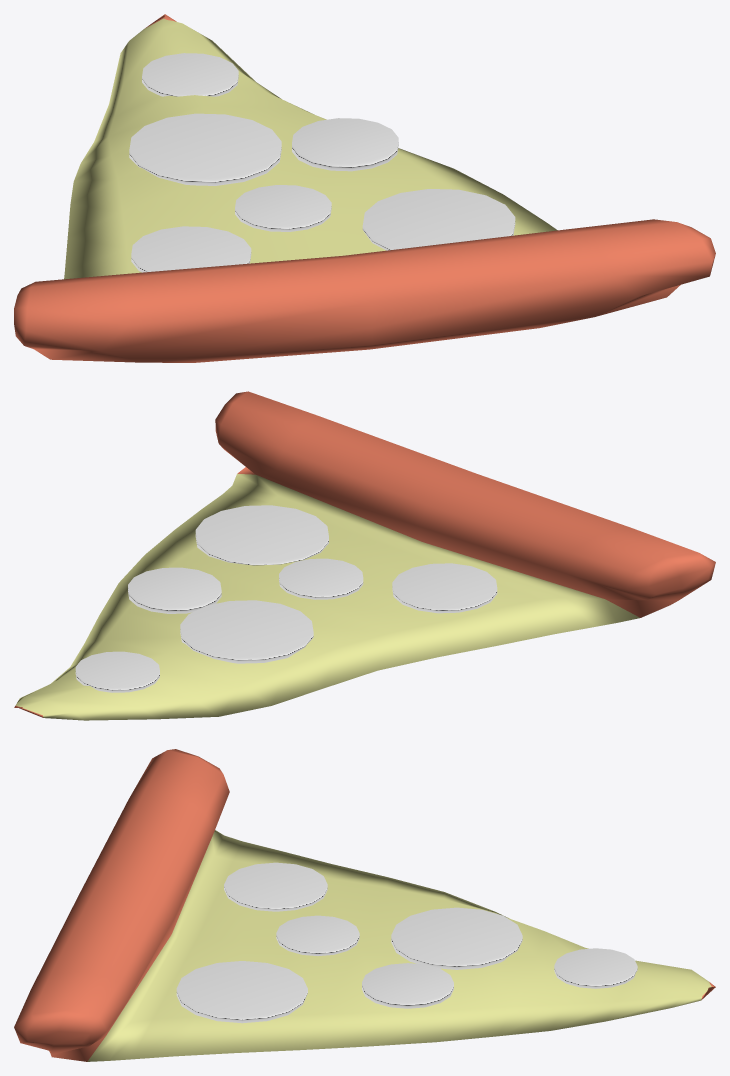
File: pizza.fbx
3 renders of one model, top to bottom at view 1: azimuth 30°, elevation 25°; view 2: azimuth 150°, elevation 25°; view 3: azimuth 270°, elevation 25°, orthographic. The views are drawn at different scales.
Parts seen in each view (by area): view 1: Plane.004, Cylinder.006, Cylinder.001, Cylinder.003, Cylinder.002, Cylinder.004, Cylinder.005; view 2: Plane.004, Cylinder.006, Cylinder.001, Cylinder.002, Cylinder.003, Cylinder.004, Cylinder.005; view 3: Plane.004, Cylinder.001, Cylinder.006, Cylinder.002, Cylinder.003, Cylinder.004, Cylinder.005.
Part boxes in pixels (x1,y1,x2,y2): Plane.004: [14, 14, 715, 362]; Cylinder.006: [129, 113, 281, 185]; Cylinder.001: [362, 189, 515, 250]; Cylinder.003: [292, 118, 398, 171]; Cylinder.002: [131, 226, 251, 272]; Cylinder.004: [235, 185, 331, 231]; Cylinder.005: [142, 53, 238, 96]; Plane.004: [14, 391, 715, 720]; Cylinder.006: [180, 600, 313, 663]; Cylinder.001: [195, 505, 328, 565]; Cylinder.002: [392, 563, 497, 613]; Cylinder.003: [128, 567, 221, 613]; Cylinder.004: [279, 558, 363, 599]; Cylinder.005: [75, 651, 159, 692]; Plane.004: [14, 749, 715, 1061]; Cylinder.001: [176, 961, 307, 1023]; Cylinder.006: [391, 907, 522, 969]; Cylinder.002: [224, 862, 327, 911]; Cylinder.003: [362, 963, 453, 1008]; Cylinder.004: [276, 915, 359, 955]; Cylinder.005: [554, 948, 637, 988].
Bounding box in the file's own units: 137 × 22.22 × 157.
